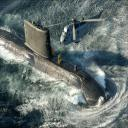submarine: (1, 17, 109, 107)
